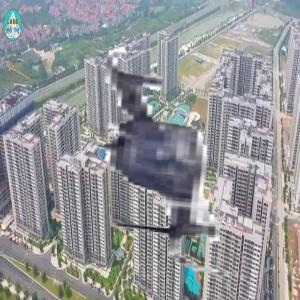drone: (39, 35, 283, 279)
